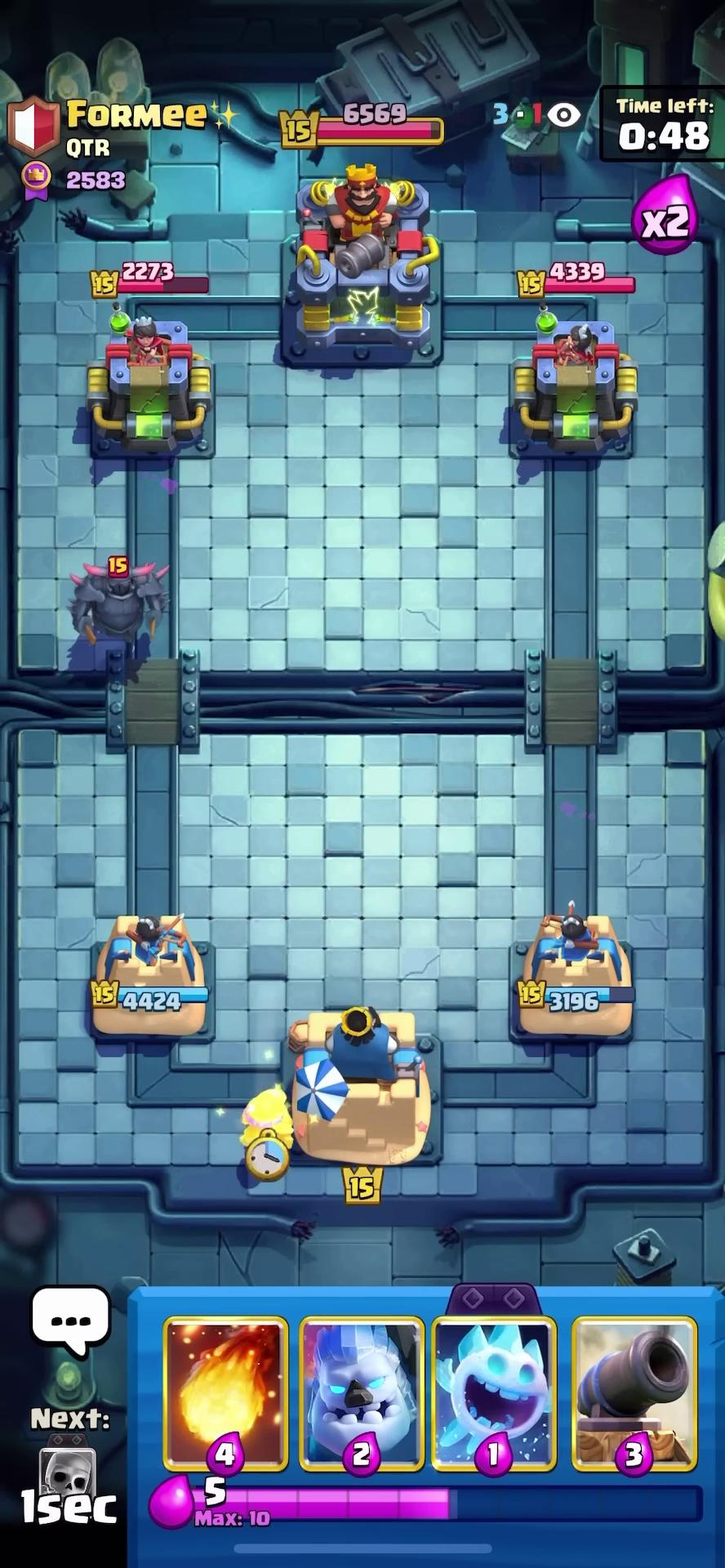musketeer: (227, 1070, 312, 1166)
